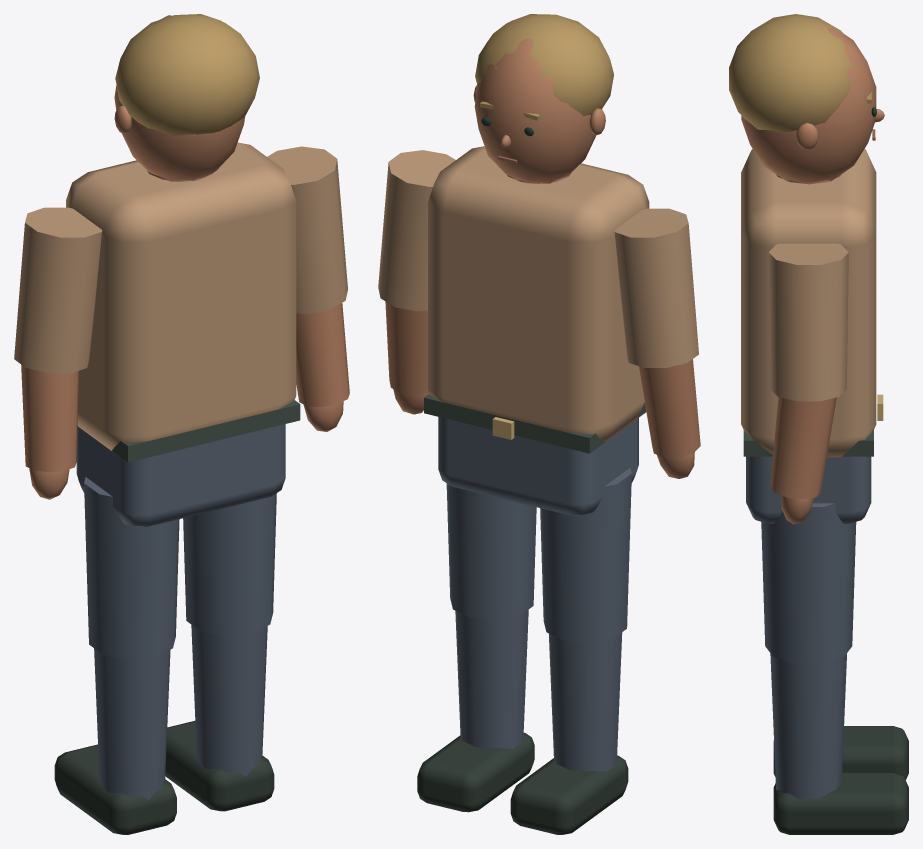
The model's file is scout-10.glb.
3 views of the same model, side by side, from view 1: azimuth 30°, elevation 25°; view 2: azimuth 150°, elevation 25°; view 3: azimuth 270°, elevation 25° (orthographic). The views are drawn at different scales.
Visible parts, largest first — view 1: Scout character 10, left-upper-arm, right-upper-arm; view 2: Scout character 10, left-upper-arm, right-upper-arm; view 3: Scout character 10, right-upper-arm.
Boxes of the visible parts, x1=… form: Scout character 10: x1=54, y1=14, x2=300, y2=834; left-upper-arm: x1=14, y1=207, x2=102, y2=499; right-upper-arm: x1=267, y1=146, x2=349, y2=431; Scout character 10: x1=417, y1=14, x2=649, y2=834; left-upper-arm: x1=614, y1=208, x2=700, y2=478; right-upper-arm: x1=378, y1=150, x2=455, y2=414; Scout character 10: x1=729, y1=14, x2=908, y2=834; right-upper-arm: x1=768, y1=243, x2=848, y2=524.
Bounding box in the file's own units: 0.7284 × 1.72 × 0.3591.
